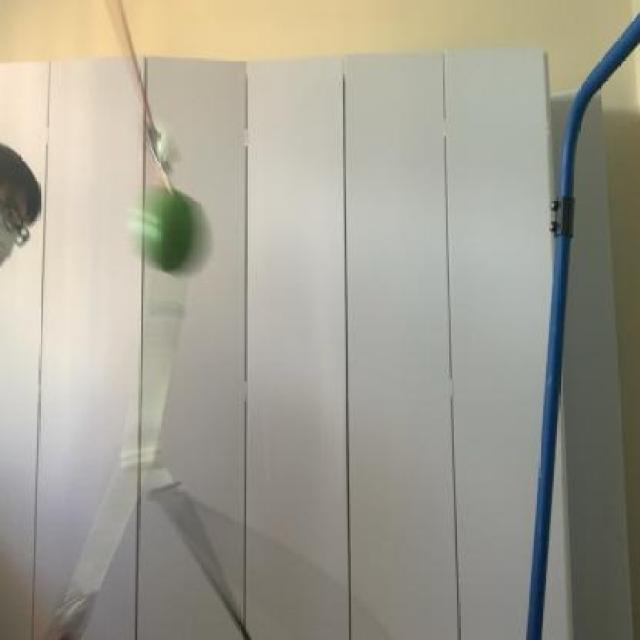baseball: (135, 171, 211, 274)
